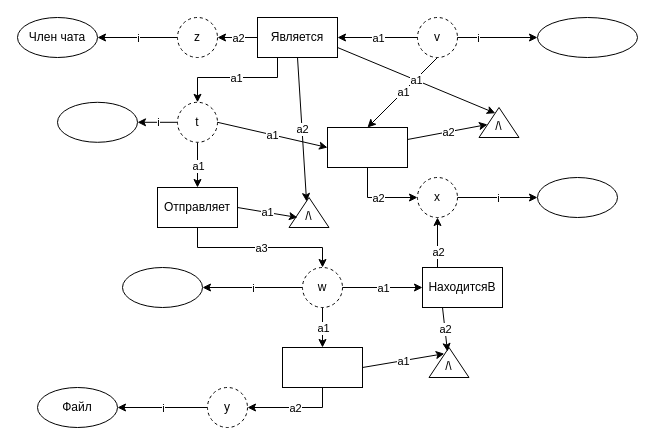
Image size: 655x445. Some labels were removed from this diagram. Each missing label, with the box of its shape:
Администратор: (536, 16, 638, 58)
Пользователь: (56, 101, 138, 142)
Содержит: (282, 346, 362, 388)
Сообщение: (122, 266, 202, 308)
СостоитВ: (326, 126, 408, 168)
Чат: (536, 176, 618, 218)
